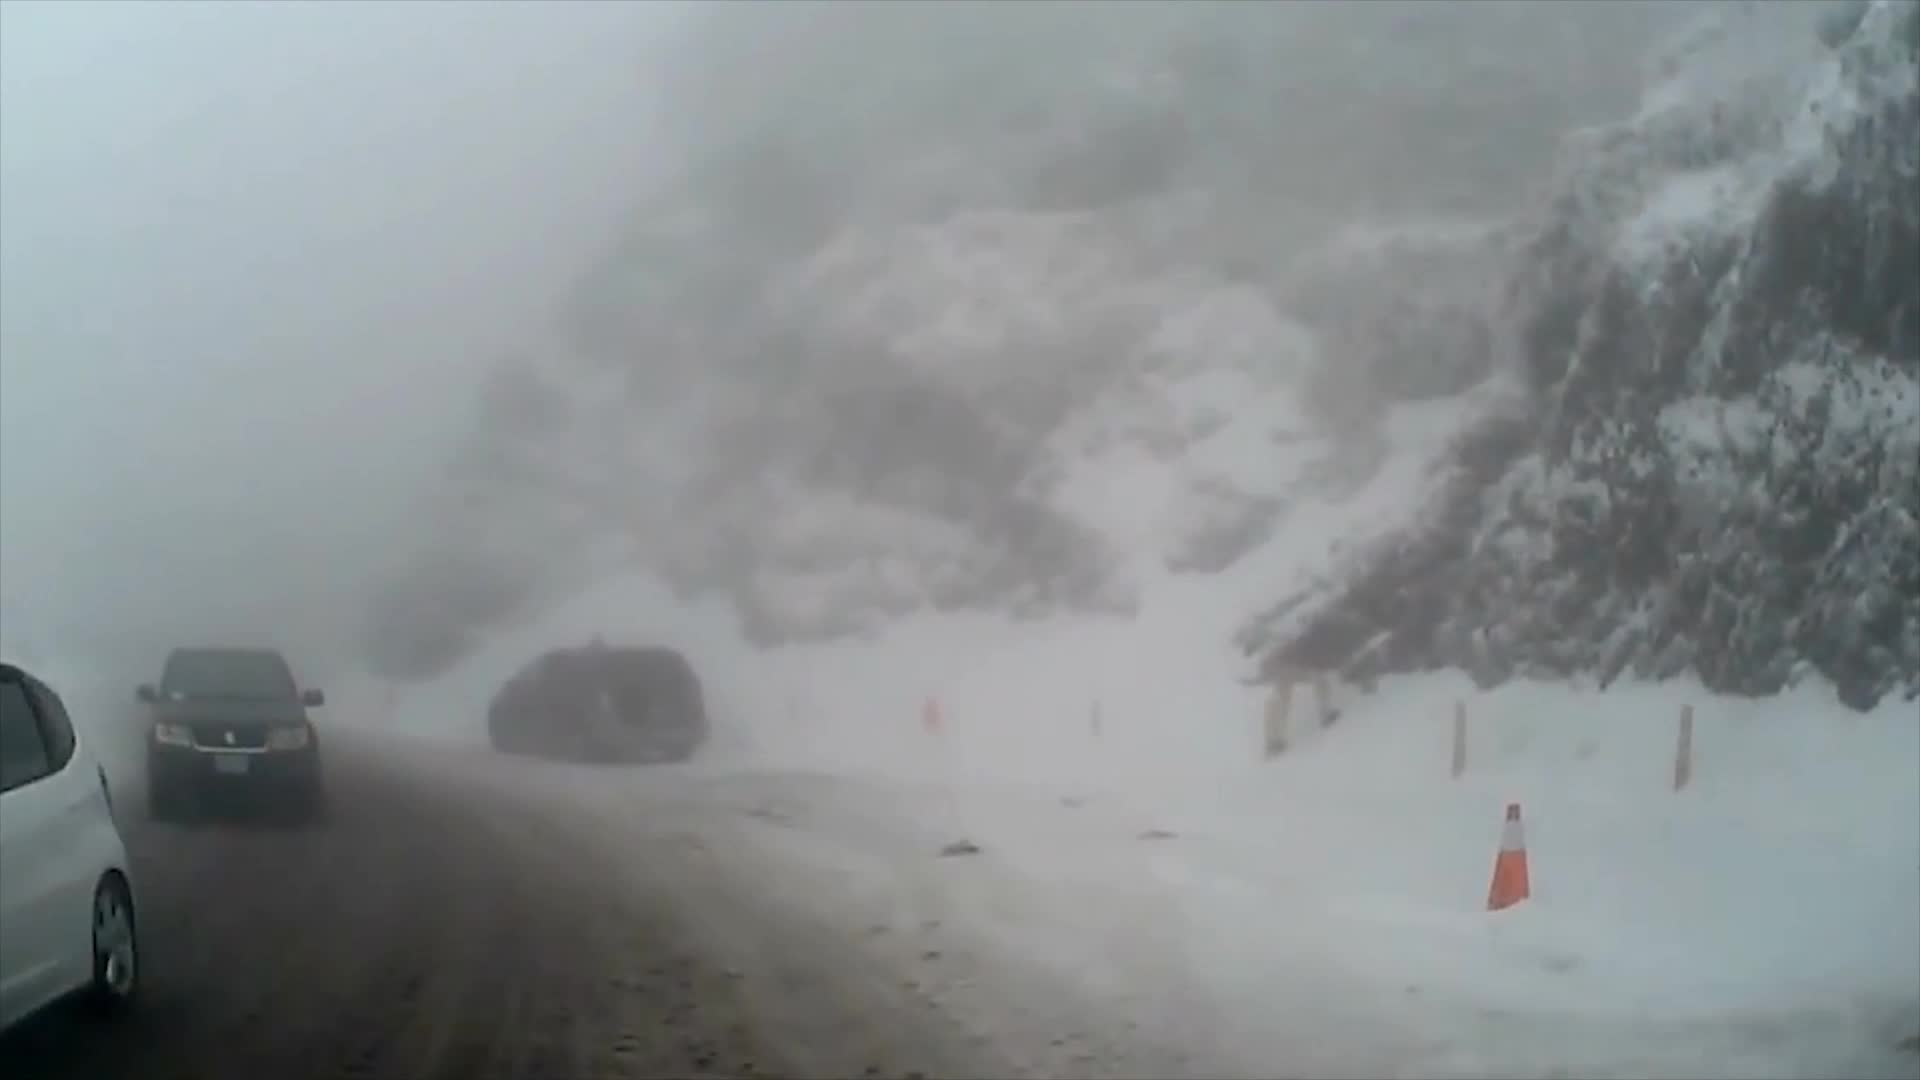vehicle: (0, 651, 142, 1036), (131, 642, 326, 822), (481, 626, 702, 750)
